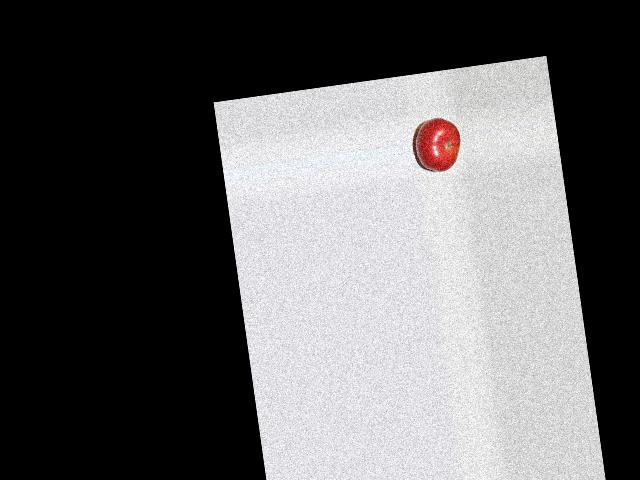tomato: (413, 114, 464, 174)
